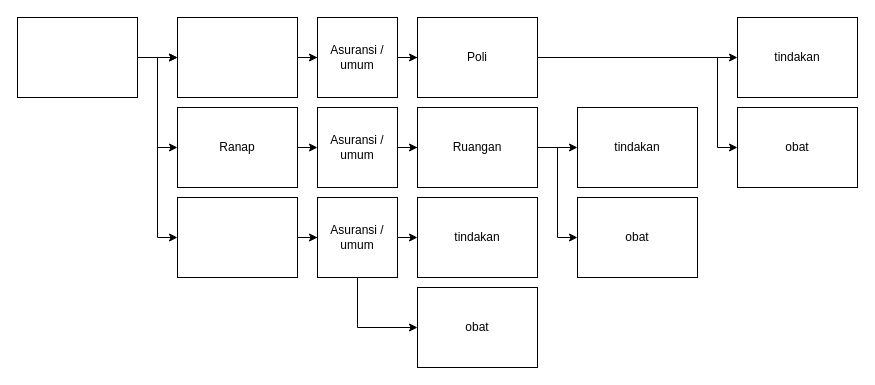
The diagram is 875 pixels wide and 385 high, and some of its shapes have lost their labels. Here are the shapes that lost their labels. From the top down, the centre of each, then its label:
At point (77, 57): "Profit / Loss".
At point (237, 57): "Rajal".
At point (237, 237): "UGD * optional".
